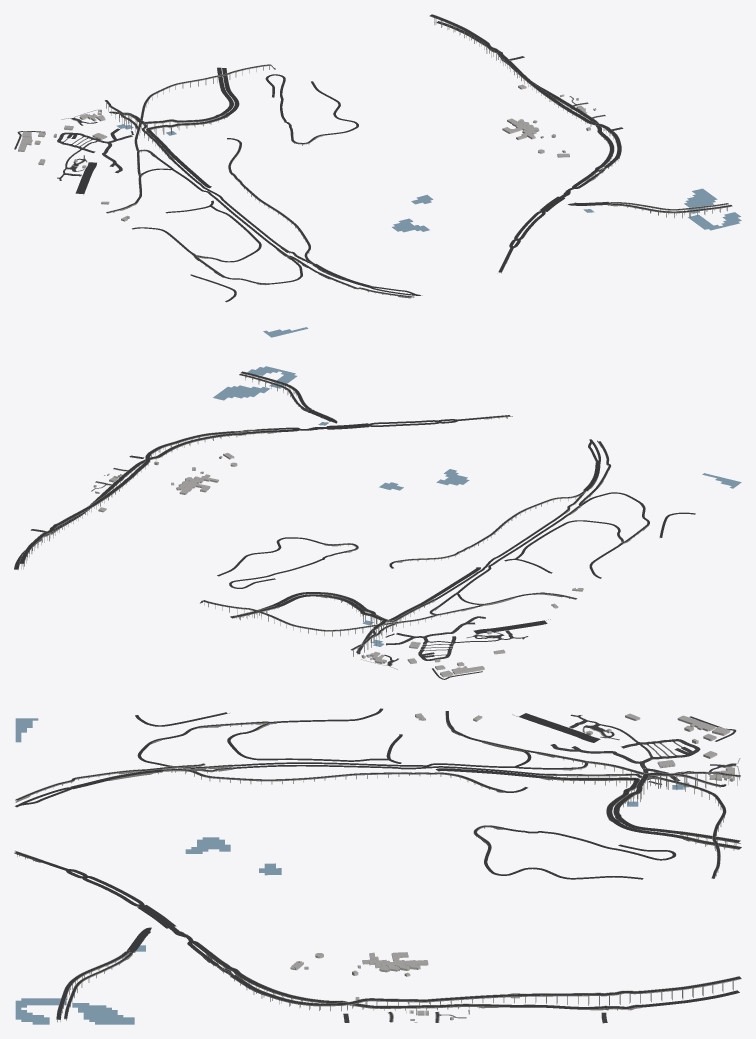
Rendered from chunk_5_4.glb.
The picture shows the model from 3 angles, top to bottom: view 1: azimuth 30°, elevation 25°; view 2: azimuth 150°, elevation 25°; view 3: azimuth 270°, elevation 25°; orthographic projection. The views are drawn at different scales.
Parts seen in each view (by area): view 1: Roads_5_4, RoadSides_5_4, Water_5_4, Buildings_5_4; view 2: Roads_5_4, RoadSides_5_4, Water_5_4, Buildings_5_4; view 3: Roads_5_4, RoadSides_5_4, Water_5_4, Buildings_5_4.
Boxes of the visible parts, x1,y1,x2,y2 form: Roads_5_4: (14, 14, 731, 302); RoadSides_5_4: (61, 15, 732, 298); Water_5_4: (117, 124, 741, 337); Buildings_5_4: (18, 84, 595, 221); Roads_5_4: (14, 371, 695, 679); RoadSides_5_4: (19, 371, 649, 669); Water_5_4: (213, 366, 741, 646); Buildings_5_4: (93, 452, 583, 677); Roads_5_4: (14, 708, 741, 1023); RoadSides_5_4: (14, 711, 741, 1022); Water_5_4: (15, 718, 689, 1024); Buildings_5_4: (290, 713, 734, 1020).
Bounding box in the file's own units: 2061 × 86.29 × 2058.
